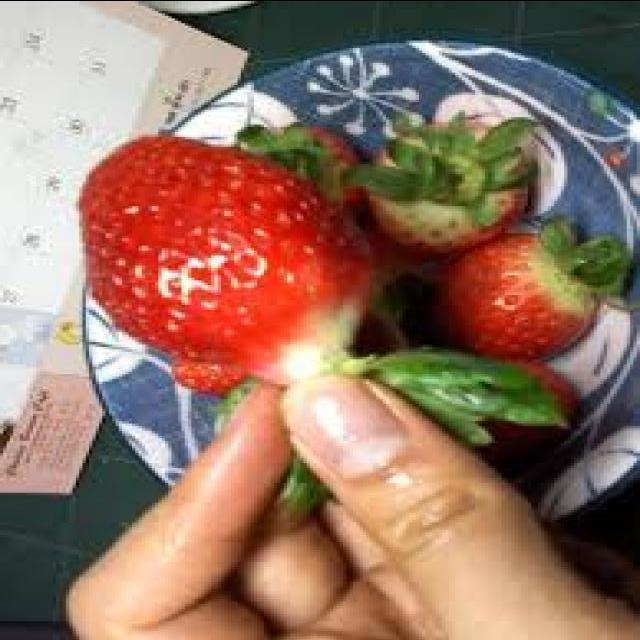strawberry: (80, 134, 372, 384), (435, 235, 596, 360)
